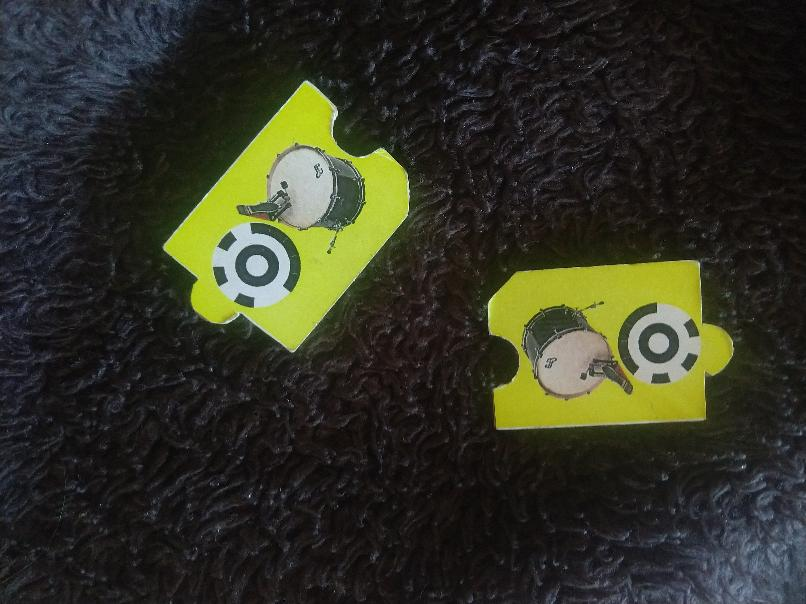bumbo: (160, 71, 413, 363), (474, 244, 734, 431)
